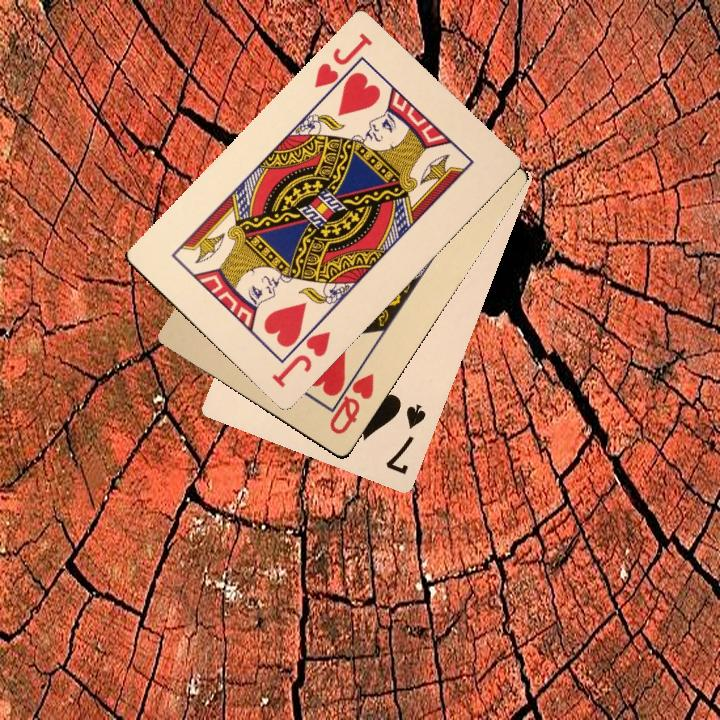7s: (381, 400, 429, 477)
Jh: (267, 316, 333, 391), (309, 29, 375, 101)
Qh: (325, 361, 377, 437)
